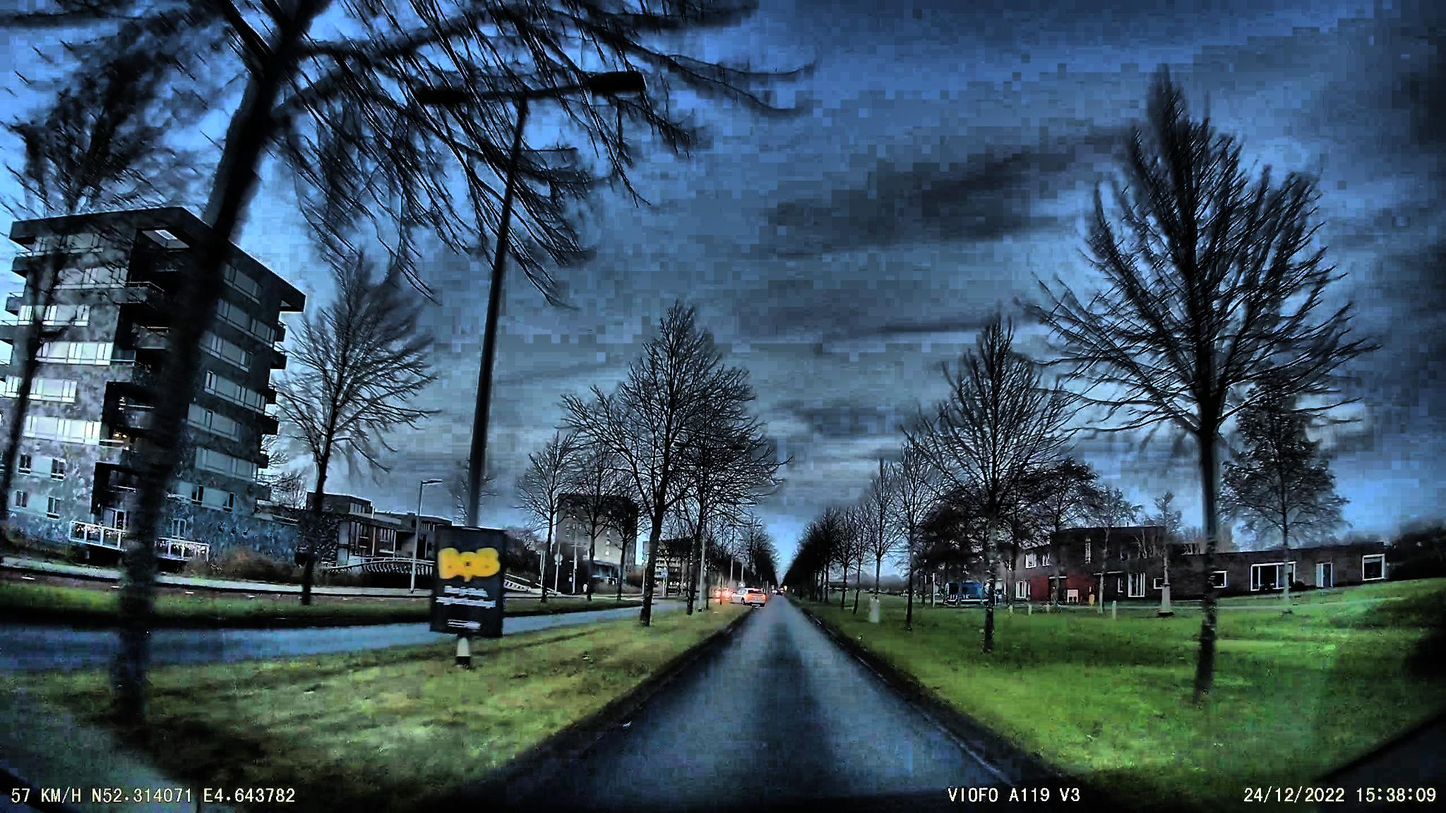Roads: (544, 602, 1053, 813)
